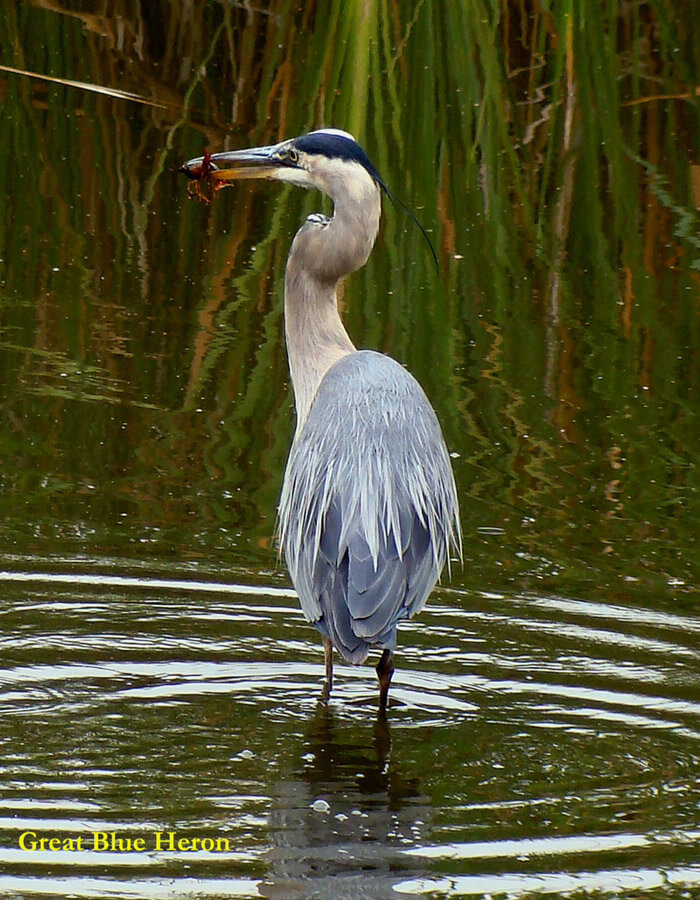heron: (181, 129, 472, 789)
